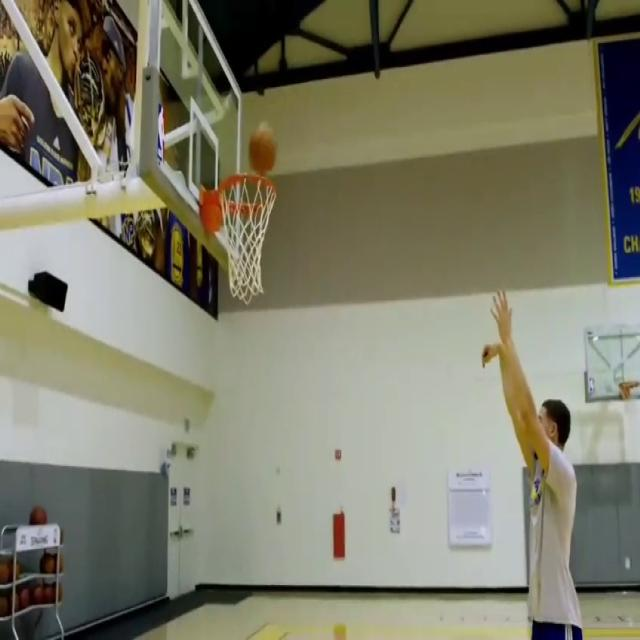ball: (248, 122, 278, 175), (39, 553, 59, 577), (45, 580, 63, 605), (0, 554, 14, 583), (30, 506, 48, 528), (20, 586, 36, 610), (34, 580, 48, 605), (0, 587, 11, 617)
